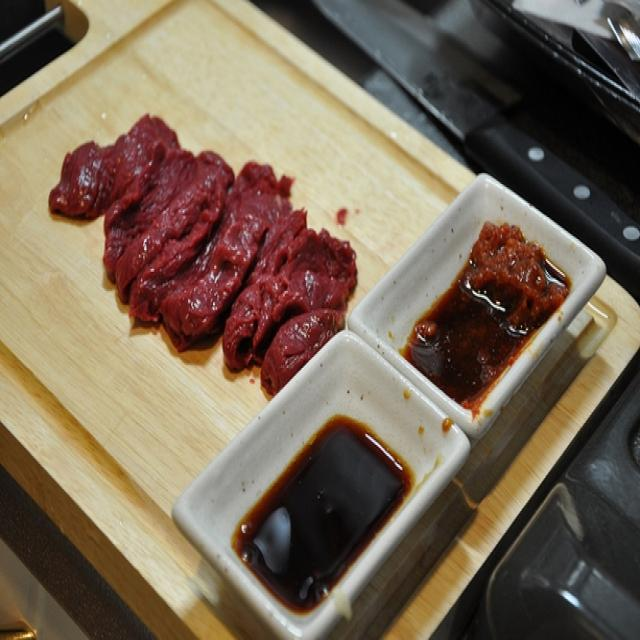刺身生食: (9, 20, 600, 618)
